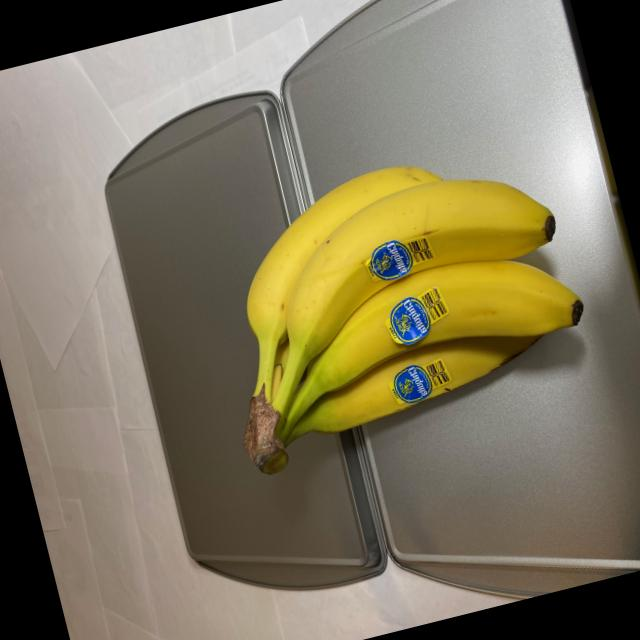banana: (181, 116, 616, 484)
